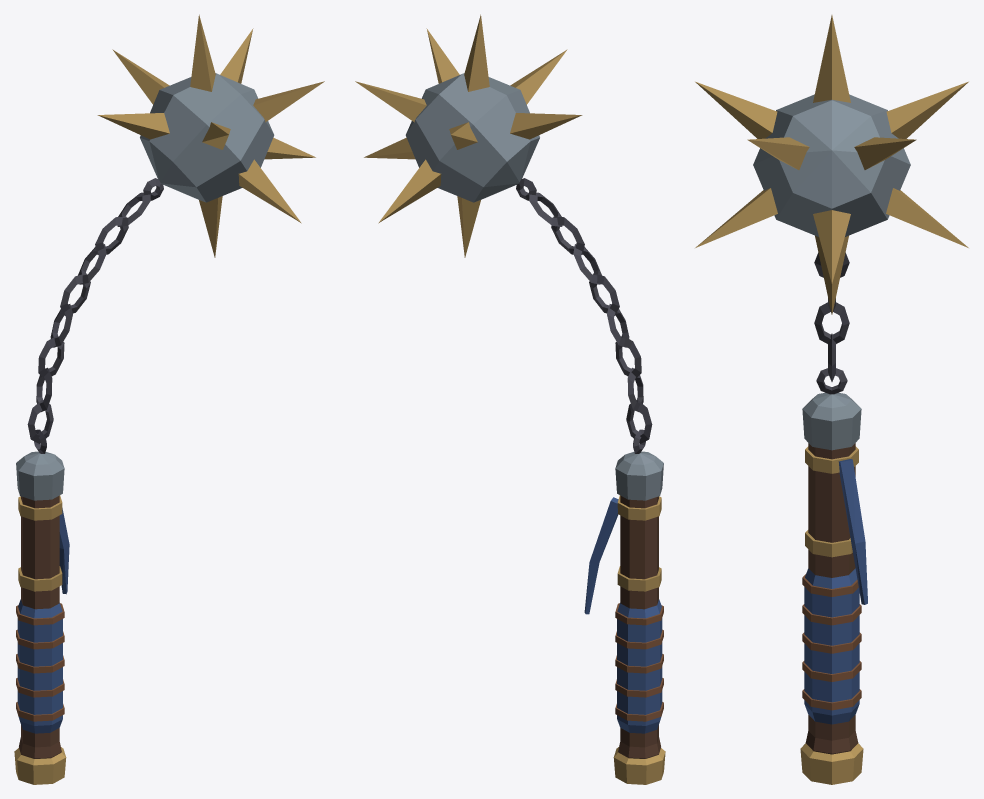
The model's file is weapon_flail_knight.glb.
3 renders of one model, left to right at view 1: azimuth 30°, elevation 25°; view 2: azimuth 150°, elevation 25°; view 3: azimuth 270°, elevation 25°, orthographic. The views are drawn at different scales.
Parts seen in each view (by area): view 1: weapon_flail_knight_ball, weapon_flail_knight, weapon_flail_knight_chain, weapon_flail_knight_link; view 2: weapon_flail_knight_ball, weapon_flail_knight, weapon_flail_knight_chain, weapon_flail_knight_link; view 3: weapon_flail_knight_ball, weapon_flail_knight, weapon_flail_knight_chain.
Part boxes in pixels (x1,y1,x2,y2): weapon_flail_knight_ball: [97, 14, 324, 257]; weapon_flail_knight: [14, 429, 69, 784]; weapon_flail_knight_chain: [36, 192, 150, 412]; weapon_flail_knight_link: [27, 400, 53, 443]; weapon_flail_knight_ball: [355, 14, 582, 257]; weapon_flail_knight: [584, 429, 665, 784]; weapon_flail_knight_chain: [529, 192, 643, 412]; weapon_flail_knight_link: [626, 400, 652, 443]; weapon_flail_knight_ball: [695, 15, 968, 314]; weapon_flail_knight: [800, 368, 867, 784]; weapon_flail_knight_chain: [814, 252, 849, 343].
Size of the model in its own units: 0.6194 by 1.43 by 0.4185.
